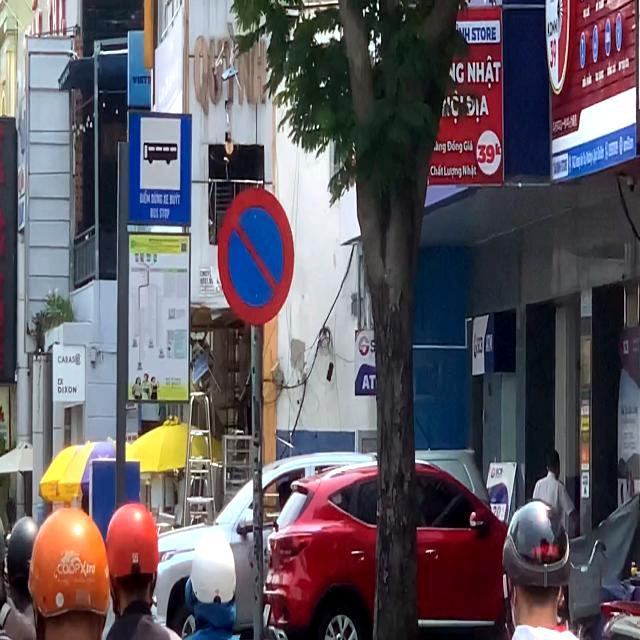Cam do xe: (218, 182, 298, 324)
